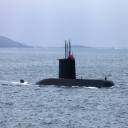submarine: (21, 39, 116, 88)
